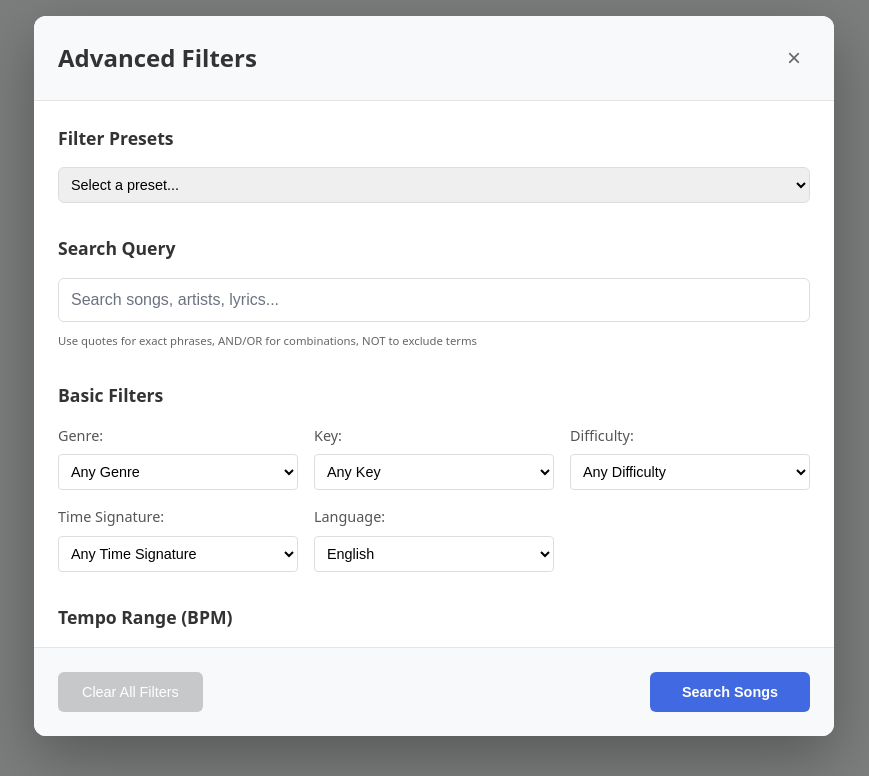
AdvancedFilterPanel › Filter Summary › should show filter summary when filters are active
Select "Rock" in the dropdown labelled "Genre:" at (178, 472), box 58,454 -> 298,490
(page scrolled)
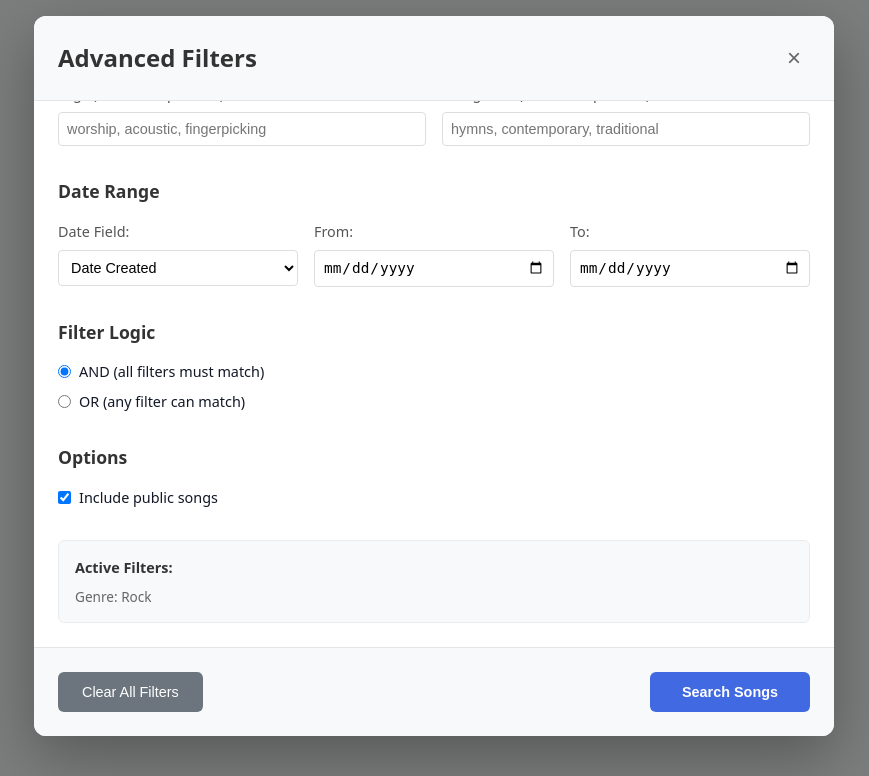
Result: the heading "Active Filters:" is shown at 75,558 -> 173,577
Result: the text "Genre: Rock" is shown at 75,587 -> 152,606
